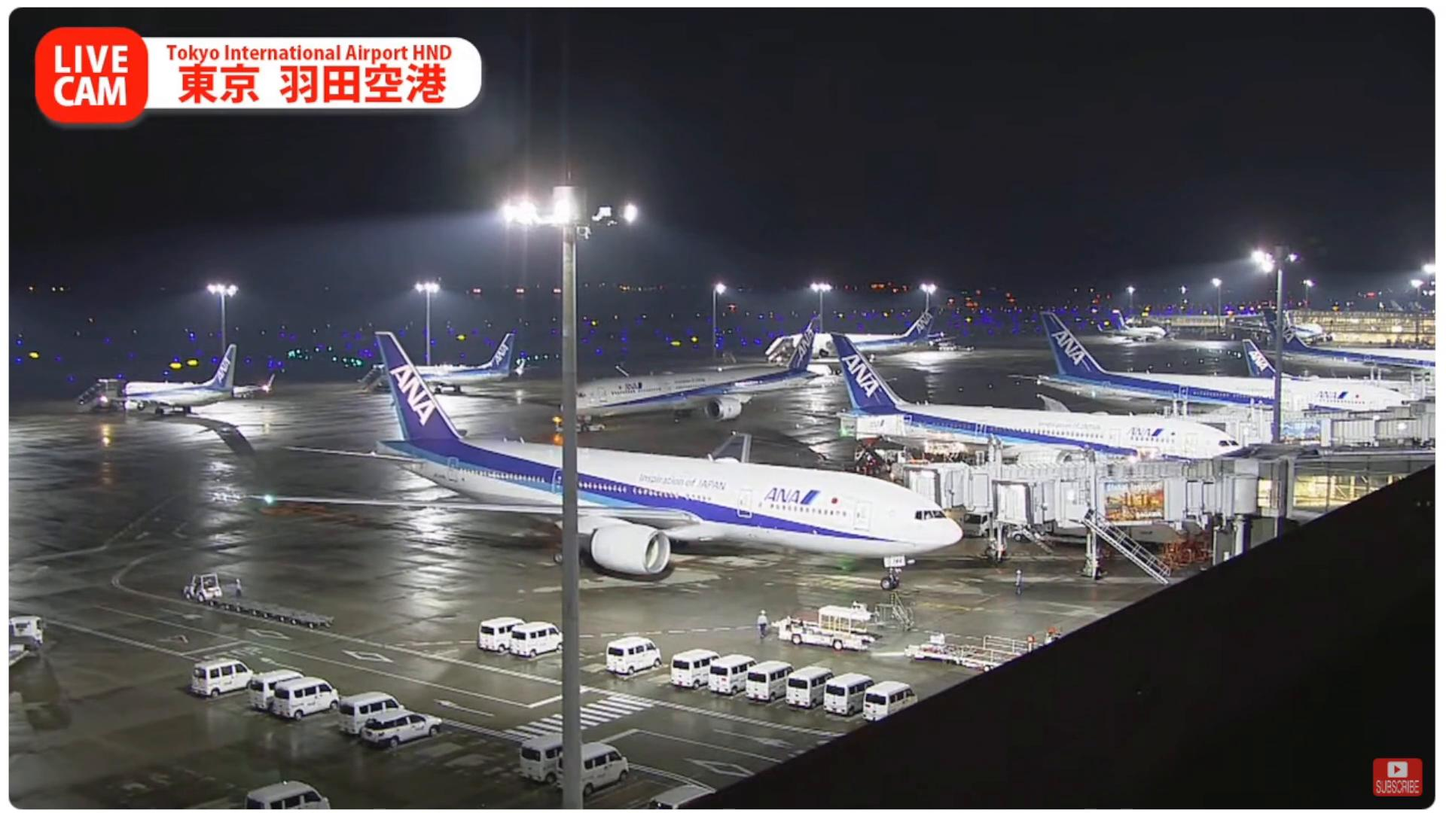Aerobridge: (901, 454, 1290, 522), (990, 469, 1279, 540)
Airplane: (241, 328, 966, 579), (552, 305, 830, 440)
Dolly: (217, 589, 341, 641)
JCPL: (898, 634, 1015, 675), (950, 628, 1054, 653)
Skyloader: (765, 599, 889, 659)
Tractor: (176, 570, 228, 611)
Window: (1291, 459, 1429, 518)
